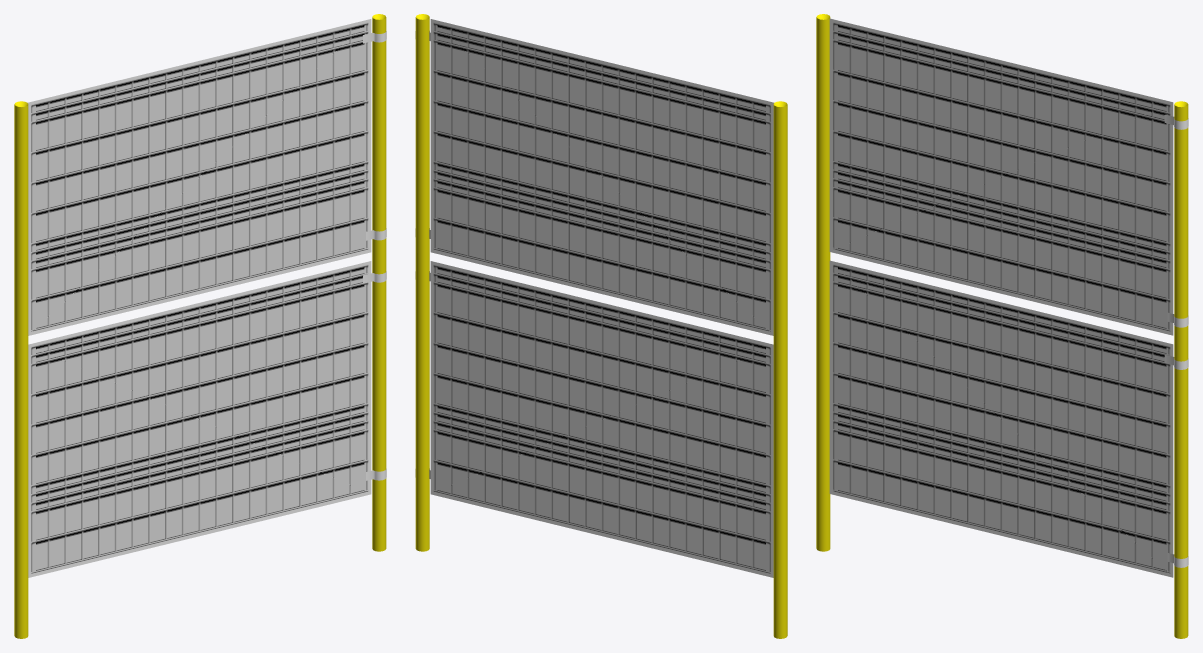
File: Fence Variant.glb
The picture shows the model from 3 angles, left to right: view 1: azimuth 30°, elevation 25°; view 2: azimuth 150°, elevation 25°; view 3: azimuth 330°, elevation 25°; orthographic projection.
Parts seen in each view (by area): view 1: WireMesh, PipeMesh, HolderMesh; view 2: WireMesh, PipeMesh; view 3: WireMesh, PipeMesh, HolderMesh.
Boxes of the visible parts, x1=… form: WireMesh: x1=28, y1=19, x2=371, y2=577; PipeMesh: x1=14, y1=14, x2=386, y2=638; HolderMesh: x1=363, y1=31, x2=386, y2=480; WireMesh: x1=430, y1=19, x2=773, y2=577; PipeMesh: x1=415, y1=14, x2=787, y2=638; WireMesh: x1=829, y1=18, x2=1173, y2=577; PipeMesh: x1=816, y1=14, x2=1188, y2=638; HolderMesh: x1=1164, y1=114, x2=1188, y2=567.
Size of the model in its own units: 1.59 by 2.18 by 0.053.
Materials: 3 (1 with a texture image).
